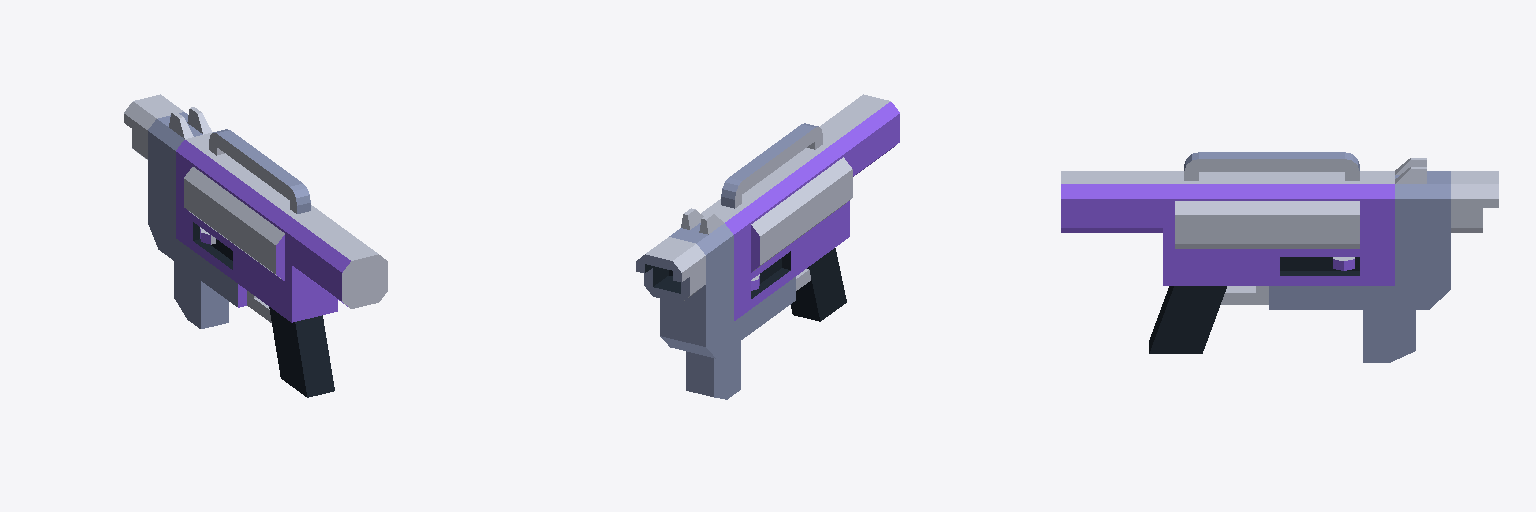
Rendered from shotgun.obj.
3 views of the same model, side by side, from view 1: azimuth 30°, elevation 25°; view 2: azimuth 150°, elevation 25°; view 3: azimuth 270°, elevation 25° (orthographic).
Parts seen in each view (by area): view 1: blasterA_metal_0, blasterA_purple_0, blasterA_darkMetal_0, blasterA_dark_0; view 2: blasterA_darkMetal_0, blasterA_metal_0, blasterA_purple_0, blasterA_dark_0; view 3: blasterA_metal_0, blasterA_purple_0, blasterA_darkMetal_0, blasterA_dark_0.
Boxes of the visible parts, x1=… form: blasterA_metal_0: x1=124, y1=94, x2=387, y2=322; blasterA_purple_0: x1=176, y1=140, x2=350, y2=322; blasterA_darkMetal_0: x1=148, y1=112, x2=310, y2=328; blasterA_dark_0: x1=193, y1=222, x2=334, y2=397; blasterA_darkMetal_0: x1=636, y1=123, x2=818, y2=399; blasterA_metal_0: x1=646, y1=94, x2=890, y2=300; blasterA_purple_0: x1=725, y1=102, x2=899, y2=320; blasterA_dark_0: x1=645, y1=248, x2=846, y2=321; blasterA_metal_0: x1=1061, y1=158, x2=1498, y2=304; blasterA_purple_0: x1=1061, y1=184, x2=1394, y2=285; blasterA_darkMetal_0: x1=1184, y1=152, x2=1450, y2=362; blasterA_dark_0: x1=1149, y1=257, x2=1359, y2=353.
Size of the model in its own units: 0.14 by 0.4159 by 0.82.